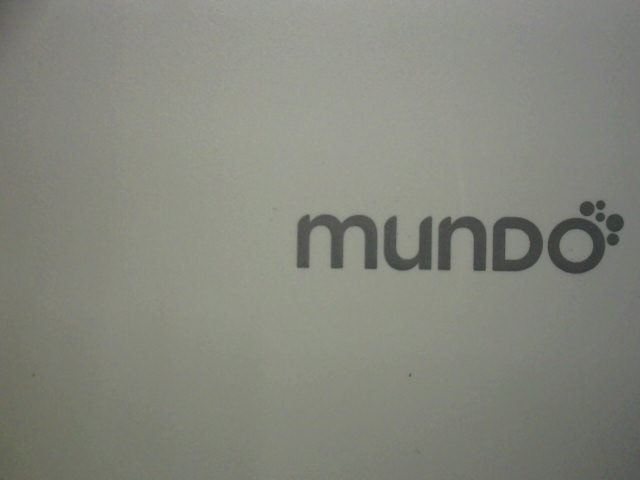BI_MUNDO: (272, 187, 628, 281)
